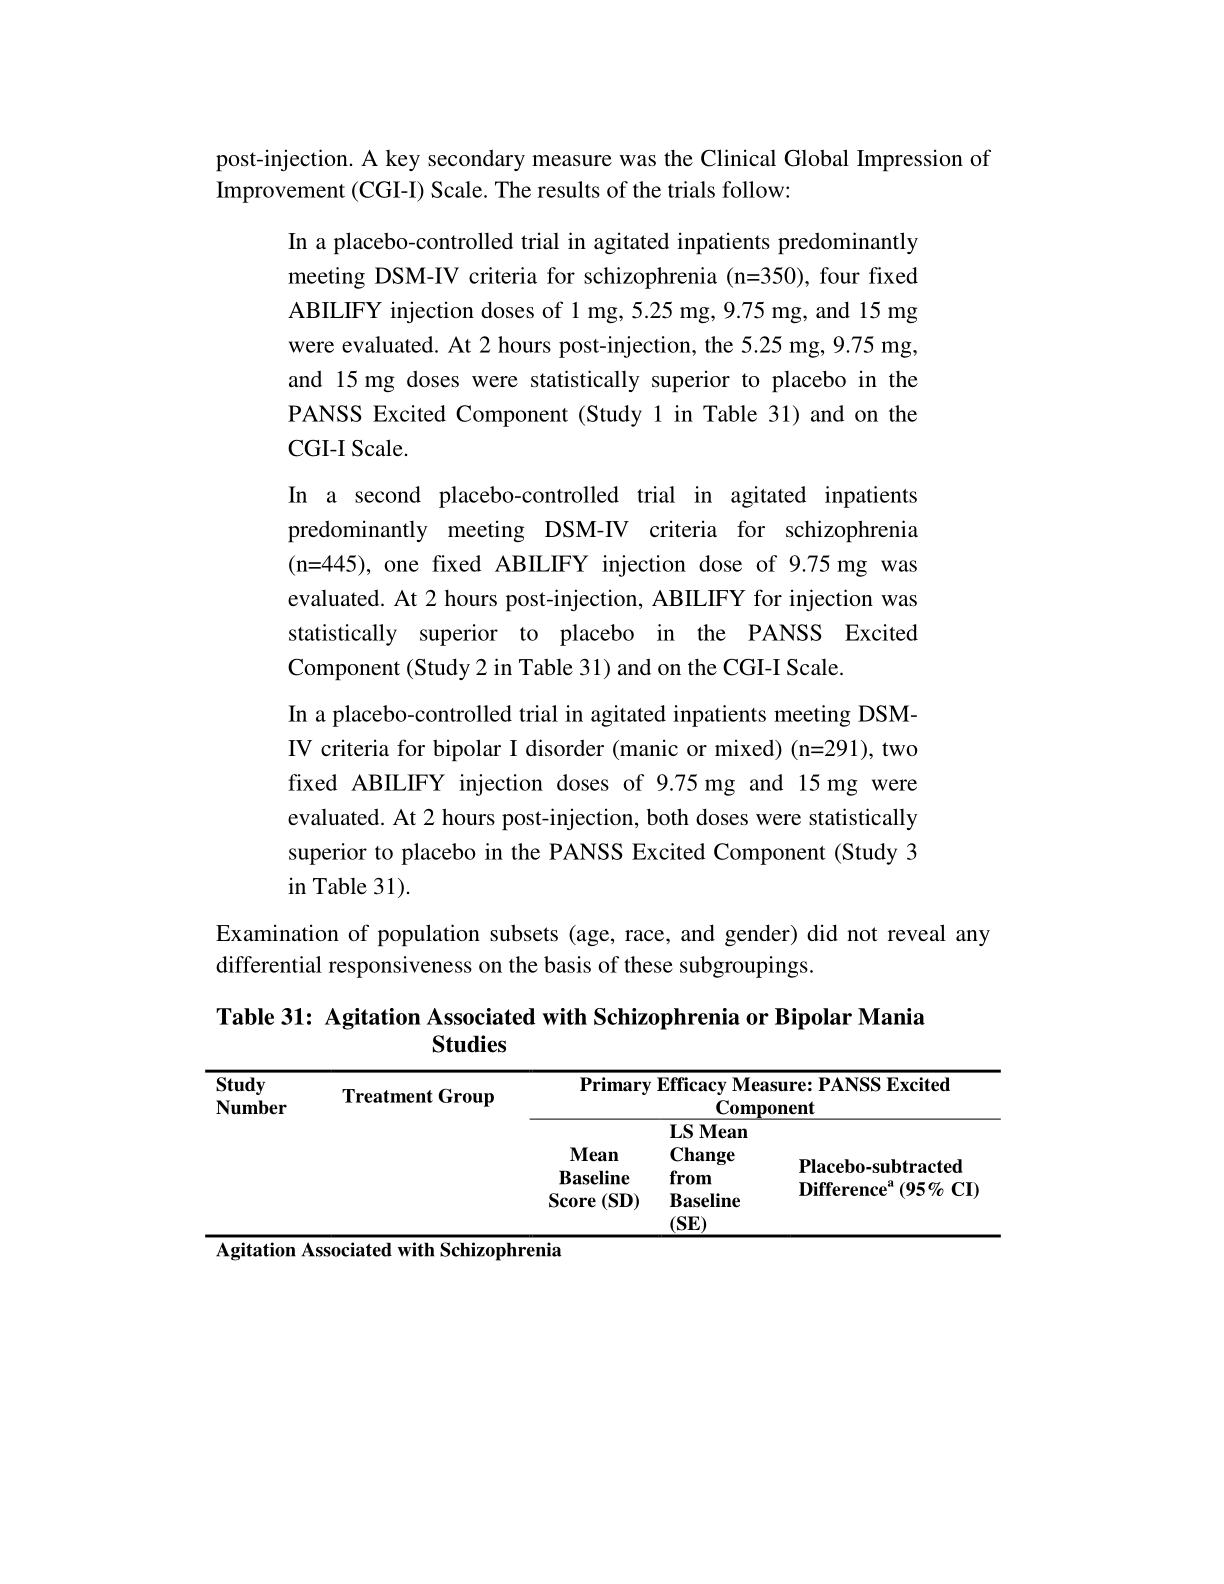partial_lined_merged_cells: (203, 1068, 1002, 1238)
